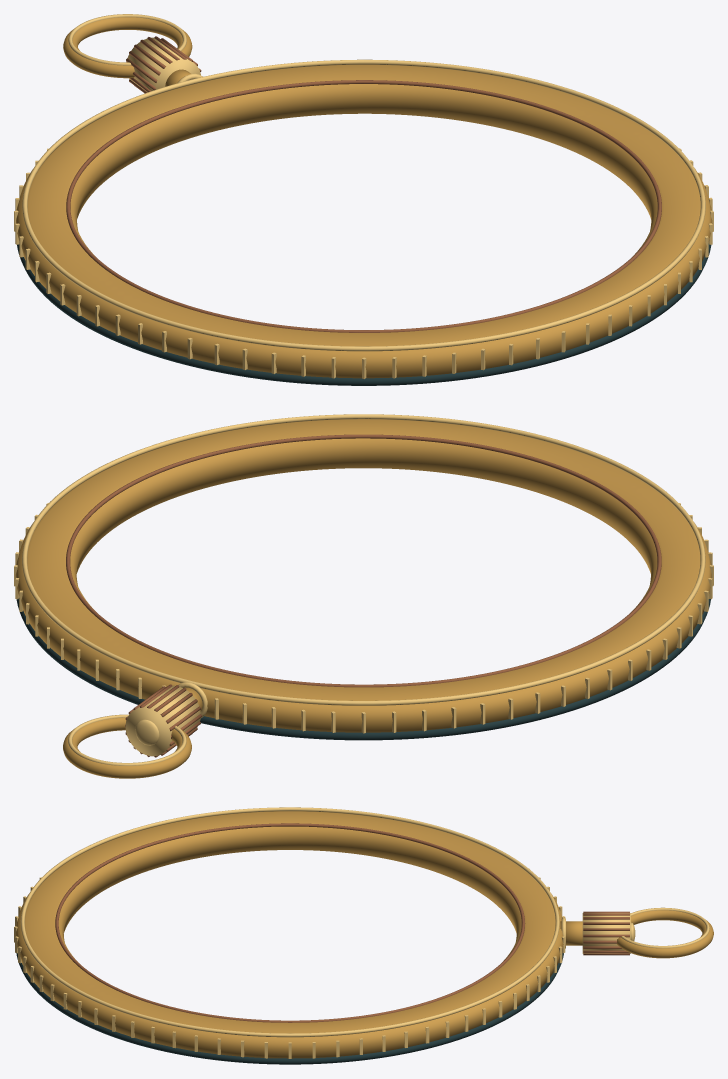
The model's file is pocket-watch.glb.
3 views of the same model, one above another, from view 1: azimuth 30°, elevation 25°; view 2: azimuth 150°, elevation 25°; view 3: azimuth 270°, elevation 25° (orthographic). The views are drawn at different scales.
Parts seen in each view (by area): view 1: pocket-watch.001; view 2: pocket-watch.001; view 3: pocket-watch.001.
Part boxes in pixels (x1=…): pocket-watch.001: x1=14, y1=14, x2=713, y2=385; pocket-watch.001: x1=14, y1=414, x2=713, y2=778; pocket-watch.001: x1=14, y1=807, x2=713, y2=1064.
Bounding box in the file's own units: 16.12 × 1.29 × 20.47.
